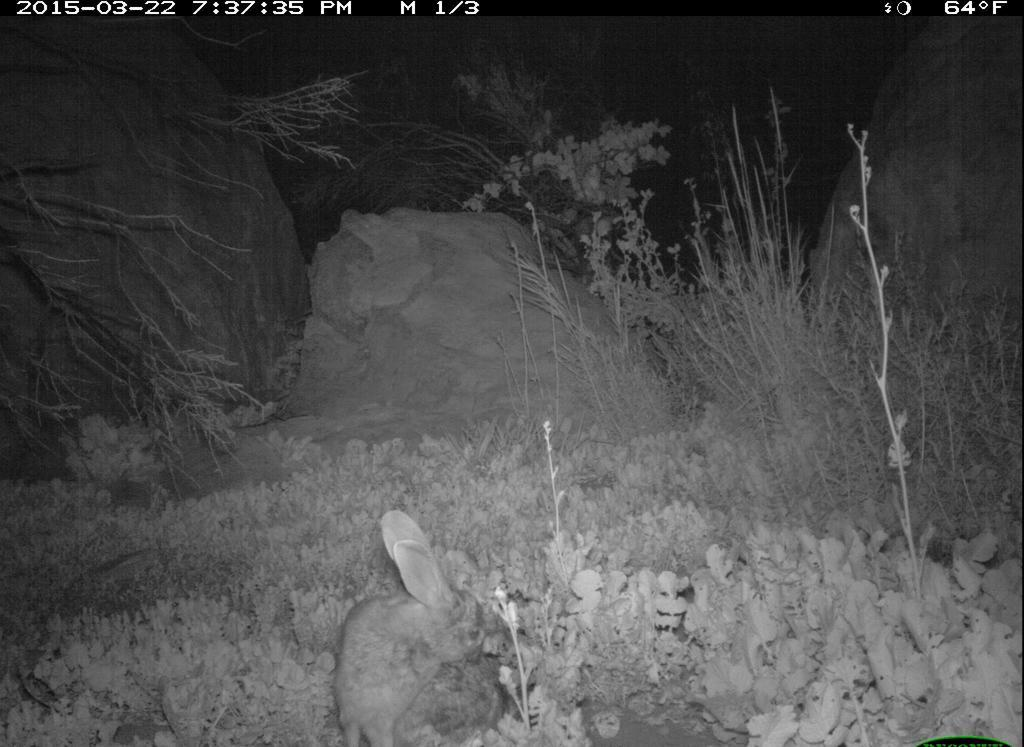rabbit: (324, 506, 532, 747)
